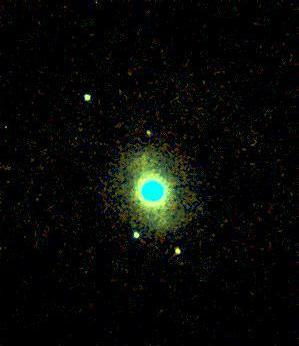star: (134, 118, 164, 148)
